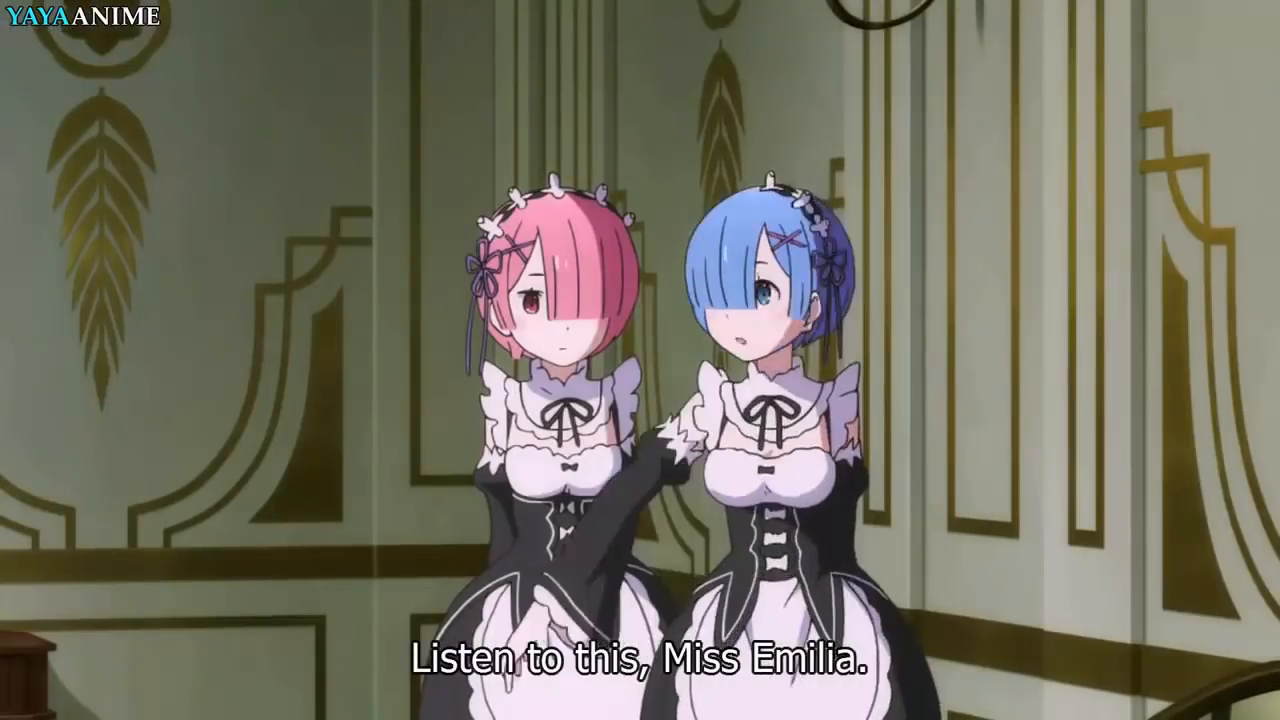REM: (681, 181, 859, 359)
